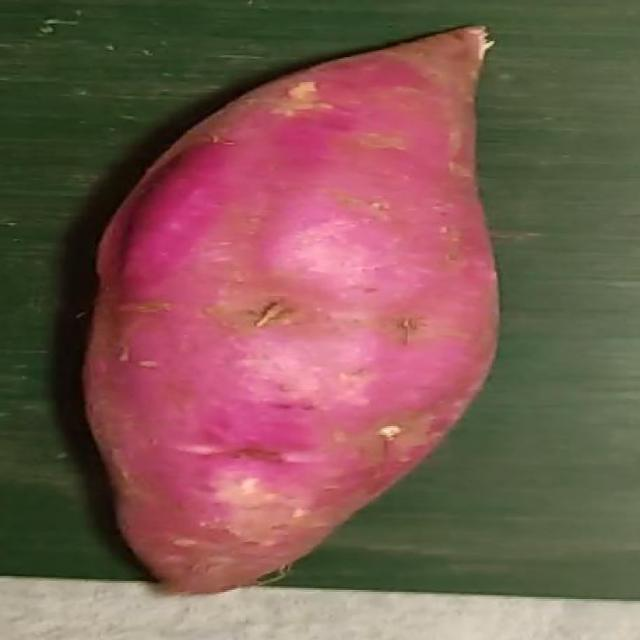Sweet Potato: (81, 26, 500, 598)
